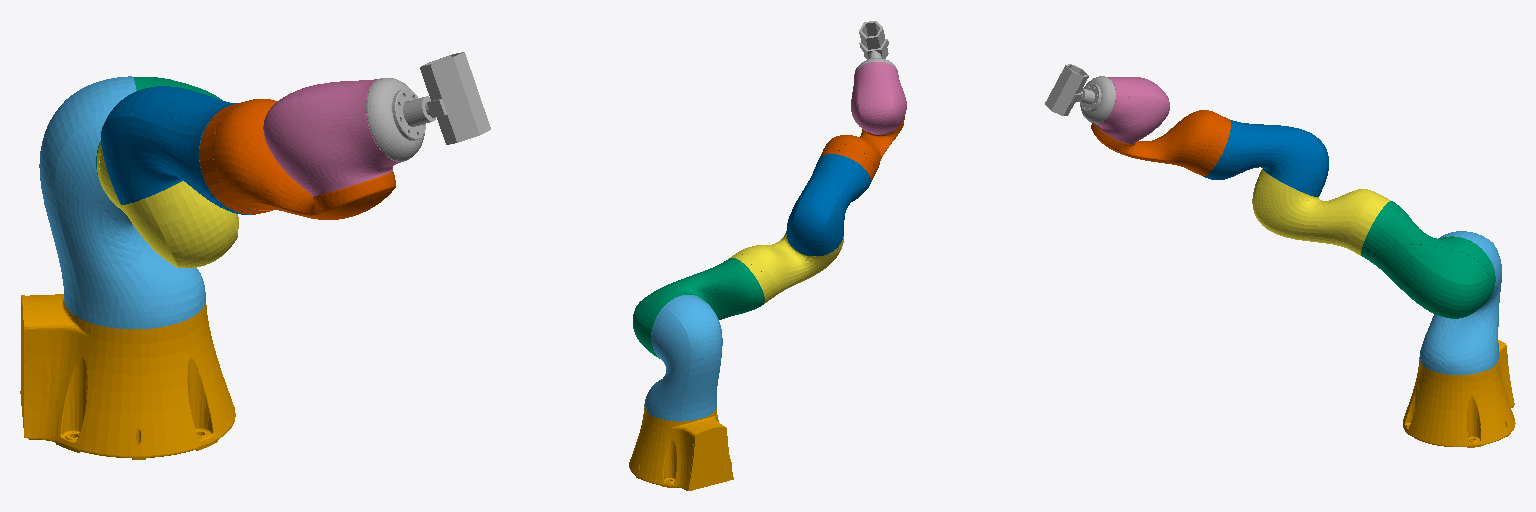
robot.urdf — kuka_glass:
<?xml version="1.0" encoding="utf-8"?>
<!-- This URDF was automatically created by SolidWorks to URDF Exporter! Originally created by [author] ([email redacted]) 
     Commit Version: 1.5.1-0-g916b5db  Build Version: 1.5.7152.31018
     For more information, please see http://wiki.ros.org/sw_urdf_exporter -->
<robot
  name="kuka_glass">
  <link
    name="base_link">
    <inertial>
      <origin
        xyz="-0.011338 0.0059891 0.071506"
        rpy="0 0 0" />
      <mass
        value="5.4761" />
      <inertia
        ixx="0.02569"
        ixy="0.0027165"
        ixz="0.00059767"
        iyy="0.029398"
        iyz="-0.00031576"
        izz="0.033479" />
    </inertial>
    <visual>
      <origin
        xyz="0 0 0"
        rpy="0 0 0" />
      <geometry>
        <mesh
          filename="package://kuka_glass/meshes/base_link.STL" />
      </geometry>
     <material name="Orange"/>   
    </visual>
    <collision>
      <origin
        xyz="0 0 0"
        rpy="0 0 0" />
      <geometry>
        <mesh
          filename="package://kuka_glass/meshes/base_link.STL" />
      </geometry>
    </collision>
  </link>
  <link
    name="link_1">
    <inertial>
      <origin
        xyz="0.037902 -0.033792 0.12736"
        rpy="0 0 0" />
      <mass
        value="4.1083" />
      <inertia
        ixx="0.031298"
        ixy="0.001405"
        ixz="-0.0056471"
        iyy="0.033271"
        iyz="0.0047181"
        izz="0.014006" />
    </inertial>
    <visual>
      <origin
        xyz="0 0 0"
        rpy="0 0 0" />
      <geometry>
        <mesh
          filename="package://kuka_glass/meshes/link_1.STL" />
      </geometry>
      <material name="Blue"/>

    </visual>
    <collision>
      <origin
        xyz="0 0 0"
        rpy="0 0 0" />
      <geometry>
        <mesh
          filename="package://kuka_glass/meshes/link_1.STL" />
      </geometry>
    </collision>
  </link>
  <joint
    name="joint1"
    type="revolute">
    <origin
      xyz="0 0 0.14702"
      rpy="0 -0.28924 -1.9847" />
    <parent
      link="base_link" />
    <child
      link="link_1" />
    <axis
      xyz="0.28522 0 0.95846" />
    <limit
      lower="-2.96"
      upper="2.96"
      effort="300"
      velocity="10" />
    <dynamics
      damping="0.5"
      />
  </joint>
  <link
    name="link_2">
    <inertial>
      <origin
        xyz="0.00015771 0.041977 0.058815"
        rpy="0 0 0" />
      <mass
        value="3.9509" />
      <inertia
        ixx="0.030589"
        ixy="-2.25E-05"
        ixz="3.3192E-05"
        iyy="0.030415"
        iyz="0.0048837"
        izz="0.011015" />
    </inertial>
    <visual>
      <origin
        xyz="0 0 0"
        rpy="0 0 0" />
      <geometry>
        <mesh
          filename="package://kuka_glass/meshes/link_2.STL" />
      </geometry>
	<material name="Orange"/>
    </visual>
    <collision>
      <origin
        xyz="0 0 0"
        rpy="0 0 0" />
      <geometry>
        <mesh
          filename="package://kuka_glass/meshes/link_2.STL" />
      </geometry>
    </collision>
  </link>
  <joint
    name="joint2"
    type="revolute">
    <origin
      xyz="0.060747 0 0.20414"
      rpy="0 1.5159 0" />
    <parent
      link="link_1" />
    <child
      link="link_2" />
    <axis
      xyz="0 1 0" />
    <limit
      lower="-2.96"
      upper="2.96"
      effort="300"
      velocity="10" />
    <dynamics
      damping="0.5"
 />
  </joint>
  <link
    name="link_3">
    <inertial>
      <origin
        xyz="2.3106E-06 0.029561 0.14751"
        rpy="0 0 0" />
      <mass
        value="3.1749" />
      <inertia
        ixx="0.025078"
        ixy="-6.2752E-08"
        ixz="-1.0088E-07"
        iyy="0.023807"
        iyz="-0.0048734"
        izz="0.0076079" />
    </inertial>
    <visual>
      <origin
        xyz="0 0 0"
        rpy="0 0 0" />
      <geometry>
        <mesh
          filename="package://kuka_glass/meshes/link_3.STL" />
      </geometry>
      <material name="Blue"/>

    </visual>
    <collision>
      <origin
        xyz="0 0 0"
        rpy="0 0 0" />
      <geometry>
        <mesh
          filename="package://kuka_glass/meshes/link_3.STL" />
      </geometry>
    </collision>
  </link>
  <joint
    name="joint3"
    type="revolute">
    <origin
      xyz="0 0 0.18349"
      rpy="0 0 -1.147" />
    <parent
      link="link_2" />
    <child
      link="link_3" />
    <axis
      xyz="0 0 1" />
    <limit
      lower="-2.96"
      upper="2.96"
      effort="300"
      velocity="10" />
    <dynamics
      damping="0.5"
 />
  </joint>
  <link
    name="link_4">
    <inertial>
      <origin
        xyz="1.4671E-06 -0.034257 0.067429"
        rpy="0 0 0" />
      <mass
        value="2.7391" />
      <inertia
        ixx="0.017201"
        ixy="-4.365E-08"
        ixz="3.3504E-08"
        iyy="0.016393"
        iyz="-0.0028452"
        izz="0.0061369" />
    </inertial>
    <visual>
      <origin
        xyz="0 0 0"
        rpy="0 0 0" />
      <geometry>
        <mesh
          filename="package://kuka_glass/meshes/link_4.STL" />
      </geometry>
    <material name="Orange"/>
    </visual>
    <collision>
      <origin
        xyz="0 0 0"
        rpy="0 0 0" />
      <geometry>
        <mesh
          filename="package://kuka_glass/meshes/link_4.STL" />
      </geometry>
    </collision>
  </link>
  <joint
    name="joint4"
    type="revolute">
    <origin
      xyz="0 0 0.23651"
      rpy="0 -0.47963 0" />
    <parent
      link="link_3" />
    <child
      link="link_4" />
    <axis
      xyz="0 1 0" />
    <limit
      lower="-2.96"
      upper="2.96"
      effort="300"
      velocity="10" />
    <dynamics
      damping="0.5"
 />
  </joint>
  <link
    name="link_5">
    <inertial>
      <origin
        xyz="-0.00012038 -0.021388 0.17353"
        rpy="0 0 0" />
      <mass
        value="1.6936" />
      <inertia
        ixx="0.010078"
        ixy="1.6205E-06"
        ixz="-6.9306E-07"
        iyy="0.0087016"
        iyz="0.0030901"
        izz="0.0044688" />
    </inertial>
    <visual>
      <origin
        xyz="0 0 0"
        rpy="0 0 0" />
      <geometry>
        <mesh
          filename="package://kuka_glass/meshes/link_5.STL" />
      </geometry>
      <material name="Blue"/>

    </visual>
    <collision>
      <origin
        xyz="0 0 0"
        rpy="0 0 0" />
      <geometry>
        <mesh
          filename="package://kuka_glass/meshes/link_5.STL" />
      </geometry>
    </collision>
  </link>
  <joint
    name="joint5"
    type="revolute">
    <origin
      xyz="0 0 0.086445"
      rpy="0 0 2.9616" />
    <parent
      link="link_4" />
    <child
      link="link_5" />
    <axis
      xyz="0 0 1" />
    <limit
      lower="-2.96"
      upper="2.96"
      effort="300"
      velocity="10" />
    <dynamics
      damping="0.5"
 />
  </joint>
  <link
    name="link_6">
    <inertial>
      <origin
        xyz="5.731E-06 0.00034304 0.00063484"
        rpy="0 0 0" />
      <mass
        value="1.8095" />
      <inertia
        ixx="0.0049026"
        ixy="2.5889E-07"
        ixz="1.7497E-07"
        iyy="0.0046942"
        iyz="0.00024415"
        izz="0.003567" />
    </inertial>
    <visual>
      <origin
        xyz="0 0 0"
        rpy="0 0 0" />
      <geometry>
        <mesh
          filename="package://kuka_glass/meshes/link_6.STL" />
      </geometry>
     <material name="Orange"/>
    </visual>
    <collision>
      <origin
        xyz="0 0 0"
        rpy="0 0 0" />
      <geometry>
        <mesh
          filename="package://kuka_glass/meshes/link_6.STL" />
      </geometry>
    </collision>
  </link>
  <joint
    name="joint6"
    type="revolute">
    <origin
      xyz="0 0 0.31356"
      rpy="0 0.44498 0" />
    <parent
      link="link_5" />
    <child
      link="link_6" />
    <axis
      xyz="0 1 0" />
    <limit
      lower="-2.96"
      upper="2.96"
      effort="300"
      velocity="10" />
    <dynamics
      damping="0.5"
	 />
  </joint>
  <link
    name="gripper">
    <inertial>
      <origin
        xyz="-0.00066987 -0.012519 0.16647"
        rpy="0 0 0" />
      <mass
        value="0.12723" />
      <inertia
        ixx="0.0001263"
        ixy="-1.0897E-06"
        ixz="2.3683E-07"
        iyy="6.4894E-05"
        iyz="-4.2015E-09"
        izz="0.00011998" />
    </inertial>
    <visual>
      <origin
        xyz="0 0 0"
        rpy="0 0 0" />
      <geometry>
        <mesh
          filename="package://kuka_glass/meshes/gripper.STL" />
      </geometry>
    <material name=""/>
    </visual>
    <collision>
      <origin
        xyz="0 0 0"
        rpy="0 0 0" />
      <geometry>
        <mesh
          filename="package://kuka_glass/meshes/gripper.STL" />
      </geometry>
    </collision>
  </link>
  <joint
    name="joint7"
    type="revolute">
    <origin
      xyz="0 0.01 0"
      rpy="0 0 0.058262" />
    <parent
      link="link_6" />
    <child
      link="gripper" />
    <axis
      xyz="0 0 1" />
    <limit
      lower="-2.96"
      upper="2.96"
      effort="300"
      velocity="10" />
    <dynamics
      damping="0.5"
 />
  </joint>
</robot>

--- Render facts (derived) ---
The picture shows the robot from 3 angles, left to right: view 1: azimuth 30°, elevation 25°; view 2: azimuth 150°, elevation 25°; view 3: azimuth 270°, elevation 25°; orthographic projection.
Model kuka_glass with 8 links and 7 joints (7 revolute), rooted at base_link, posed all joints at 0.
Links seen in each view (by area): view 1: base_link, link_1, link_5, link_4, link_6, gripper, link_3, link_2; view 2: link_1, base_link, link_4, link_2, link_6, link_3, link_5, gripper; view 3: link_2, base_link, link_3, link_4, link_1, link_5, link_6, gripper.
Link boxes in pixels (x1=…): base_link: x1=20, y1=294, x2=235, y2=459; link_1: x1=39, y1=76, x2=205, y2=328; link_5: x1=199, y1=99, x2=395, y2=219; link_4: x1=101, y1=86, x2=255, y2=214; link_6: x1=263, y1=79, x2=403, y2=196; gripper: x1=366, y1=52, x2=490, y2=161; link_3: x1=97, y1=143, x2=238, y2=267; link_2: x1=96, y1=77, x2=221, y2=197; link_1: x1=644, y1=295, x2=722, y2=421; base_link: x1=629, y1=407, x2=733, y2=490; link_4: x1=786, y1=154, x2=870, y2=255; link_2: x1=633, y1=258, x2=764, y2=358; link_6: x1=851, y1=62, x2=906, y2=134; link_3: x1=731, y1=233, x2=843, y2=303; link_5: x1=820, y1=118, x2=904, y2=181; gripper: x1=854, y1=21, x2=897, y2=74; link_2: x1=1361, y1=201, x2=1495, y2=318; base_link: x1=1403, y1=340, x2=1515, y2=447; link_3: x1=1252, y1=168, x2=1390, y2=255; link_4: x1=1204, y1=120, x2=1328, y2=196; link_1: x1=1419, y1=231, x2=1501, y2=374; link_5: x1=1091, y1=110, x2=1230, y2=176; link_6: x1=1096, y1=77, x2=1169, y2=143; gripper: x1=1045, y1=64, x2=1115, y2=123.
Size in the robot's own frame: 0.3603 by 1.01 by 0.8327 metres.
Meshes: 8 distinct files referenced, 8 mesh visuals loaded (8 binary STL).